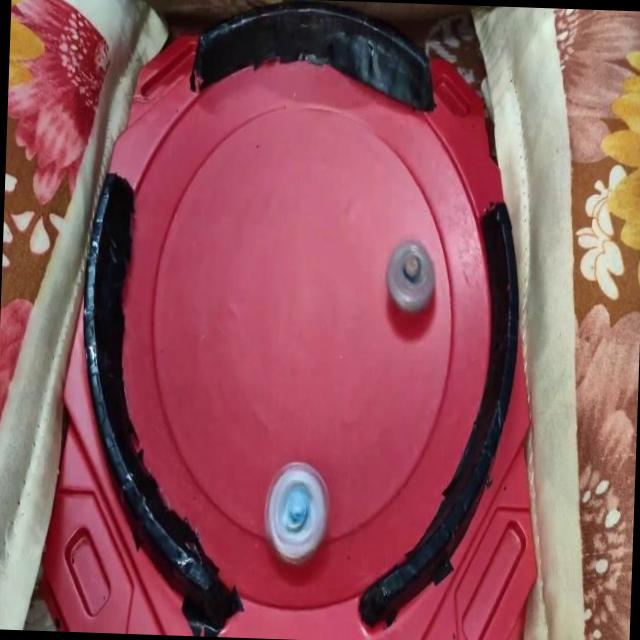Beyblade: (262, 458, 331, 566), (385, 238, 437, 312)
